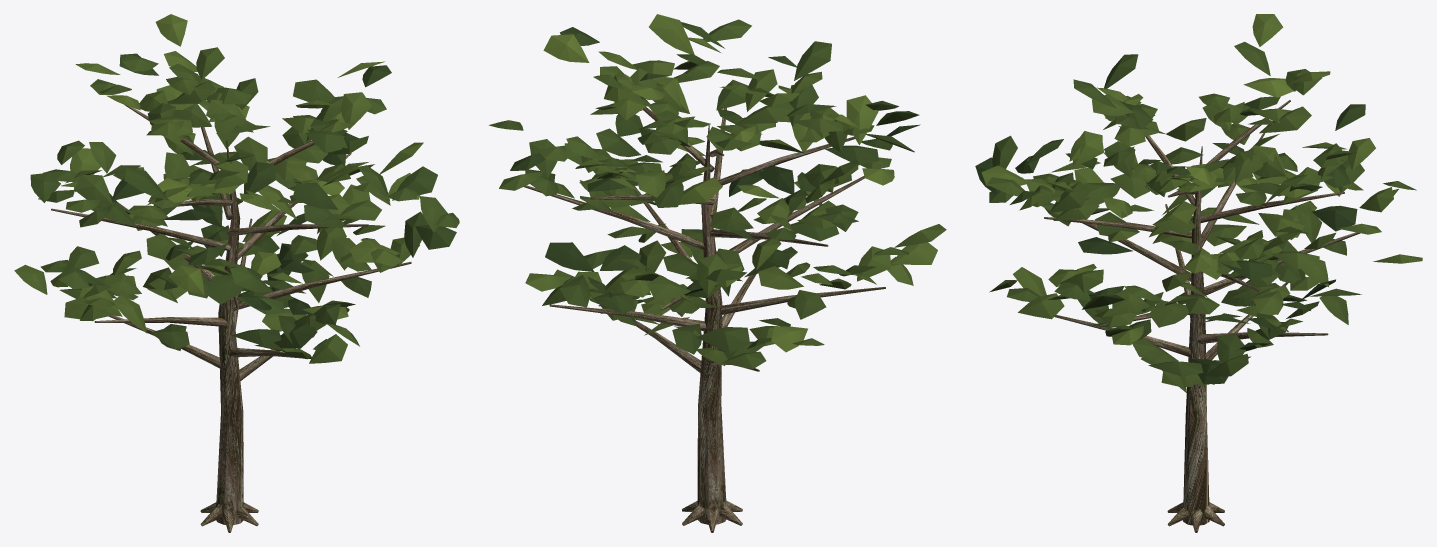
The model's file is oak2.glb.
3 renders of one model, left to right at view 1: azimuth 30°, elevation 25°; view 2: azimuth 150°, elevation 25°; view 3: azimuth 270°, elevation 25°, orthographic. The views are drawn at different scales.
Visible parts, largest first — view 1: Tree; view 2: Tree; view 3: Tree.
Boxes of the visible parts, x1,y1,x2,y2 form: Tree: [14, 14, 459, 532]; Tree: [489, 14, 946, 532]; Tree: [975, 14, 1422, 532].
Size of the model in its own units: 7.12 by 8.51 by 7.65.
Materials: 1 (1 with a texture image).
